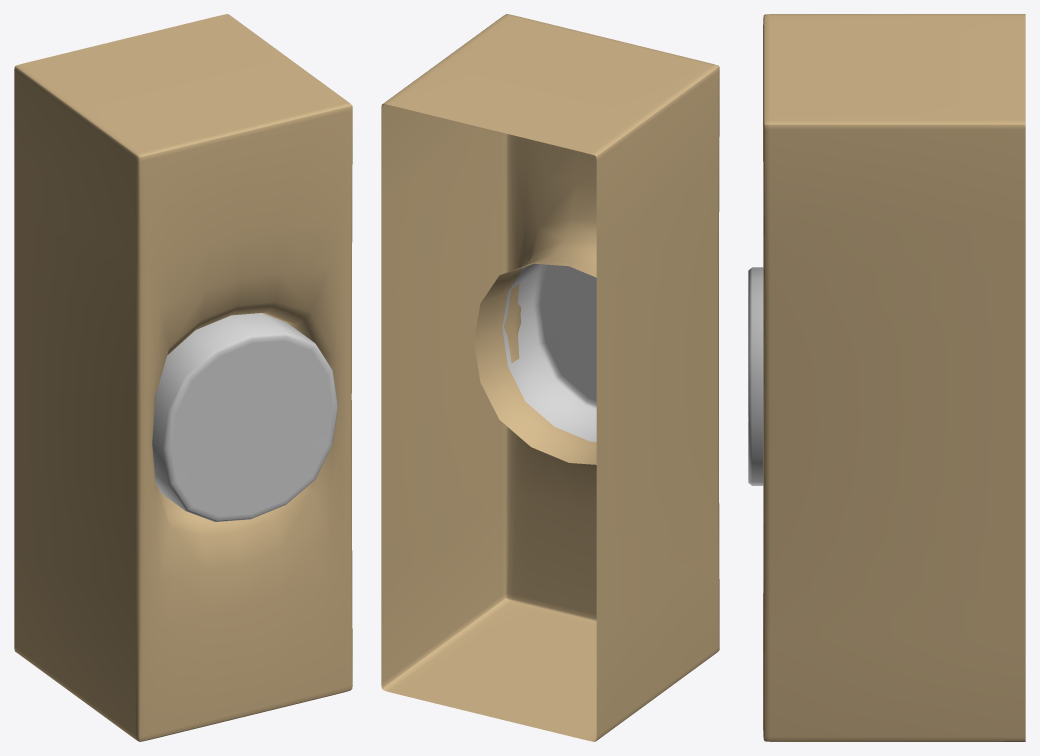
Rendered from Doorbell.fbx.
3 views of the same model, side by side, from view 1: azimuth 30°, elevation 25°; view 2: azimuth 150°, elevation 25°; view 3: azimuth 270°, elevation 25° (orthographic). The views are drawn at different scales.
Parts seen in each view (by area): view 1: DoorbelL_LOD0; view 2: DoorbelL_LOD0; view 3: DoorbelL_LOD0.
Part boxes in pixels (x1,y1,x2,y2): DoorbelL_LOD0: (14,14,352,741); DoorbelL_LOD0: (381,14,719,741); DoorbelL_LOD0: (748,14,1025,741).
Size of what is drawn, in the model's own units: 22.32 by 58.11 by 23.58.
